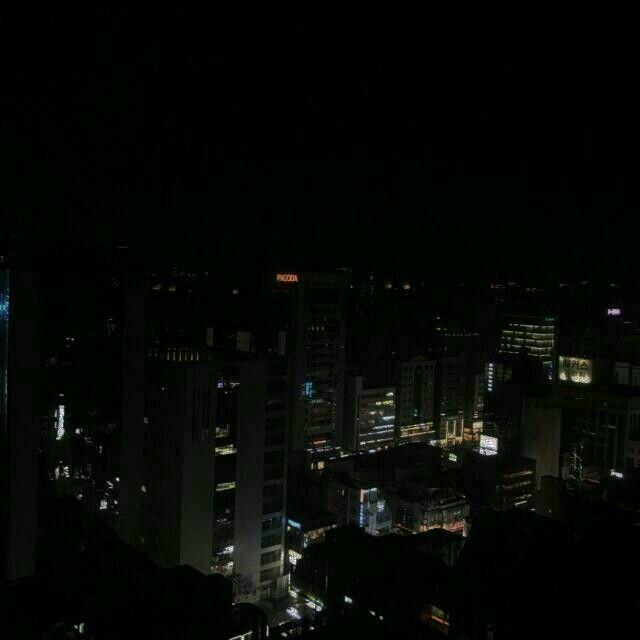off: (85, 100, 458, 492)
